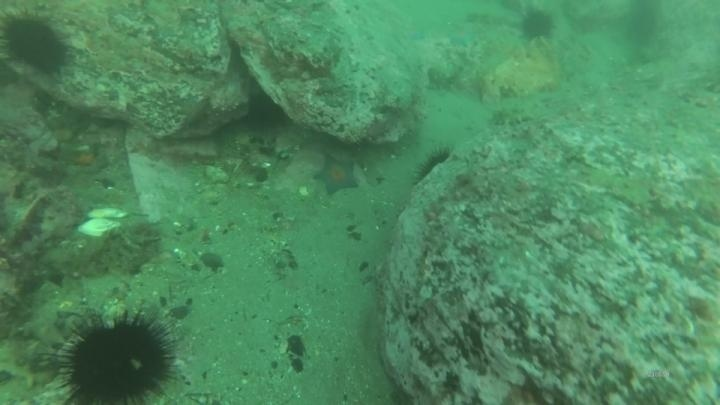echinus: (51, 309, 180, 404), (1, 9, 74, 78), (409, 144, 454, 190), (516, 8, 557, 44)
holothurian: (583, 163, 660, 213), (487, 104, 540, 129)
starfish: (311, 153, 361, 197), (177, 95, 214, 130), (444, 22, 482, 49)
